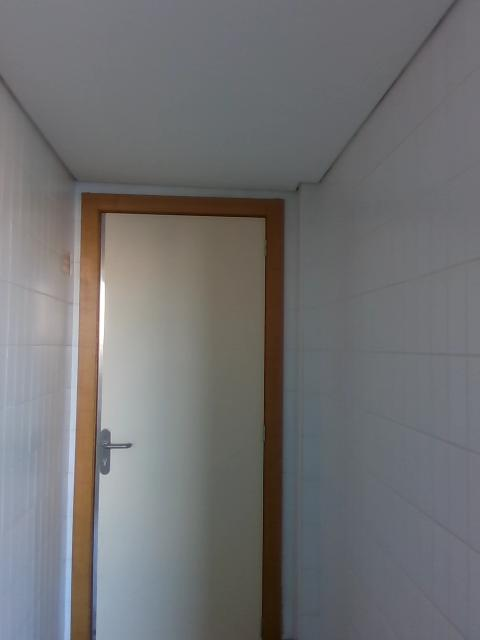door: (93, 214, 267, 640)
